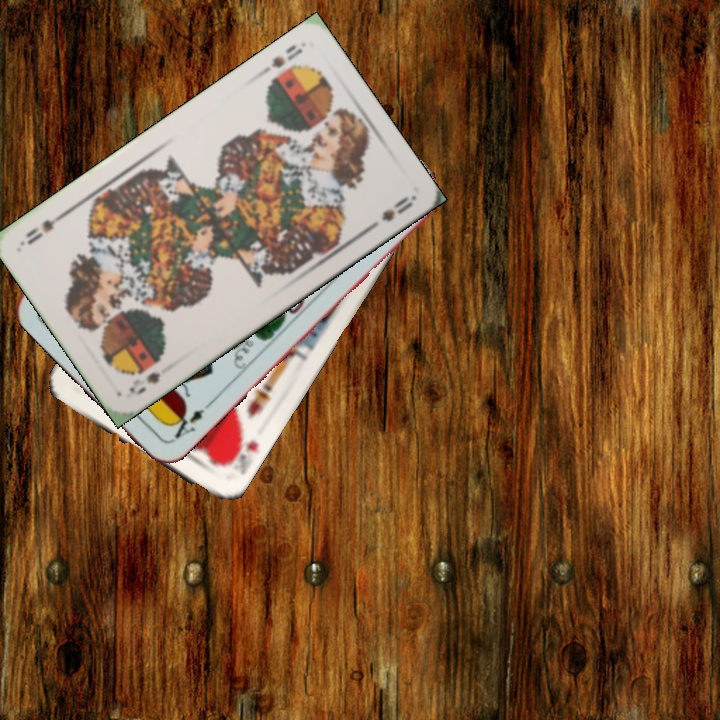EA: (165, 398, 214, 445)
HK: (219, 432, 262, 470)
SO: (255, 40, 306, 79), (124, 368, 163, 398)
